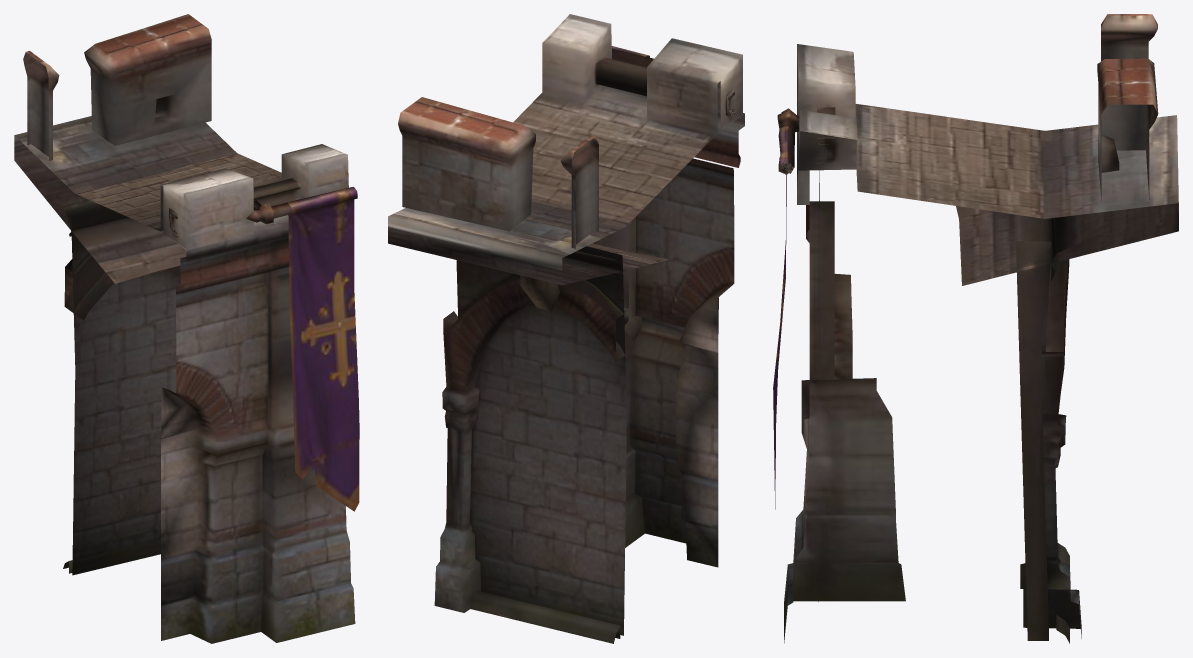
The model's file is WallRunFront_33.fbx.
3 views of the same model, side by side, from view 1: azimuth 30°, elevation 25°; view 2: azimuth 150°, elevation 25°; view 3: azimuth 270°, elevation 25° (orthographic). The views are drawn at different scales.
Parts seen in each view (by area): view 1: Imported wall section.021; view 2: Imported wall section.021; view 3: Imported wall section.021.
Part boxes in pixels (left/top/right/bottom): Imported wall section.021: left=14, top=14, right=359, bottom=643; Imported wall section.021: left=388, top=14, right=744, bottom=643; Imported wall section.021: left=773, top=14, right=1178, bottom=643.
Bounding box in the file's own units: 200 × 574 × 389.
1 material, 1 textured.
